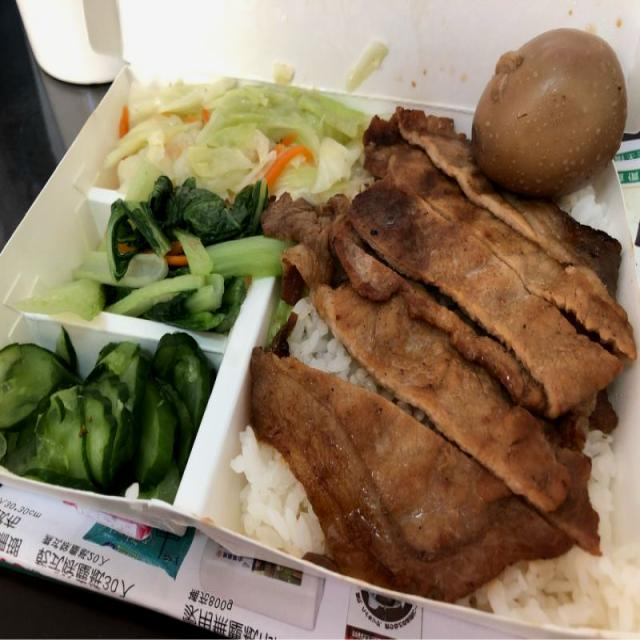Fushan-lettuce: (64, 218, 262, 298)
braised egg: (482, 43, 614, 196)
cabbage: (98, 90, 324, 180)
meat: (278, 219, 604, 565)
